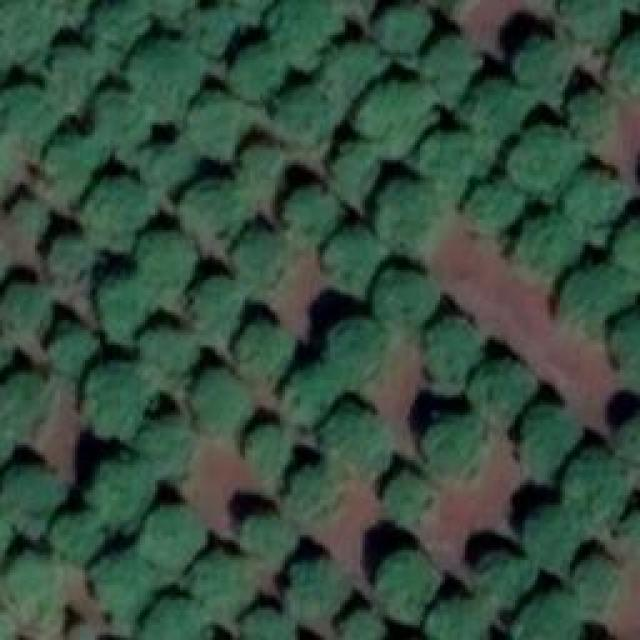Tree: (560, 447, 630, 535), (362, 75, 430, 150), (557, 265, 635, 330), (320, 405, 393, 473), (518, 402, 581, 480), (368, 550, 438, 618), (265, 0, 343, 60), (87, 365, 155, 433), (370, 175, 438, 243), (80, 183, 148, 248), (3, 465, 66, 533), (140, 500, 205, 565), (468, 360, 533, 425), (145, 40, 208, 105), (185, 178, 248, 243), (418, 130, 483, 193), (283, 558, 348, 621), (420, 315, 483, 380), (323, 318, 386, 381), (525, 505, 583, 573), (0, 549, 62, 612), (0, 88, 60, 153), (90, 460, 155, 520), (470, 550, 540, 605), (370, 265, 430, 328), (90, 553, 153, 613), (423, 415, 488, 473), (518, 210, 578, 270), (45, 130, 100, 195), (143, 230, 198, 295), (193, 555, 253, 613), (280, 85, 335, 148), (187, 100, 245, 158), (0, 0, 55, 60), (515, 590, 580, 640), (190, 367, 245, 425), (135, 418, 193, 473), (515, 127, 570, 185), (280, 367, 335, 425), (138, 325, 201, 375), (228, 42, 281, 100), (95, 0, 150, 55), (423, 35, 478, 90), (190, 275, 240, 335), (143, 595, 208, 640), (423, 595, 488, 640), (235, 140, 290, 193), (465, 80, 518, 135), (285, 463, 338, 518), (373, 5, 433, 53), (3, 283, 48, 346), (97, 277, 145, 335), (140, 140, 195, 190), (243, 518, 298, 568), (55, 45, 108, 95), (290, 185, 340, 238), (325, 228, 375, 281), (238, 323, 291, 373), (50, 512, 105, 560), (238, 420, 293, 468), (380, 472, 435, 520), (562, 170, 610, 223), (328, 38, 378, 88), (98, 95, 153, 140), (233, 228, 278, 283), (607, 307, 640, 380), (515, 37, 565, 85), (558, 0, 618, 40), (50, 328, 100, 371), (570, 553, 613, 603), (605, 38, 640, 98), (10, 375, 53, 423), (330, 140, 373, 188), (470, 180, 515, 225), (237, 607, 297, 640), (198, 2, 238, 50), (50, 240, 90, 288), (335, 605, 385, 640), (13, 200, 48, 245), (612, 218, 640, 273), (0, 410, 20, 473), (615, 508, 640, 558), (615, 418, 640, 463)
